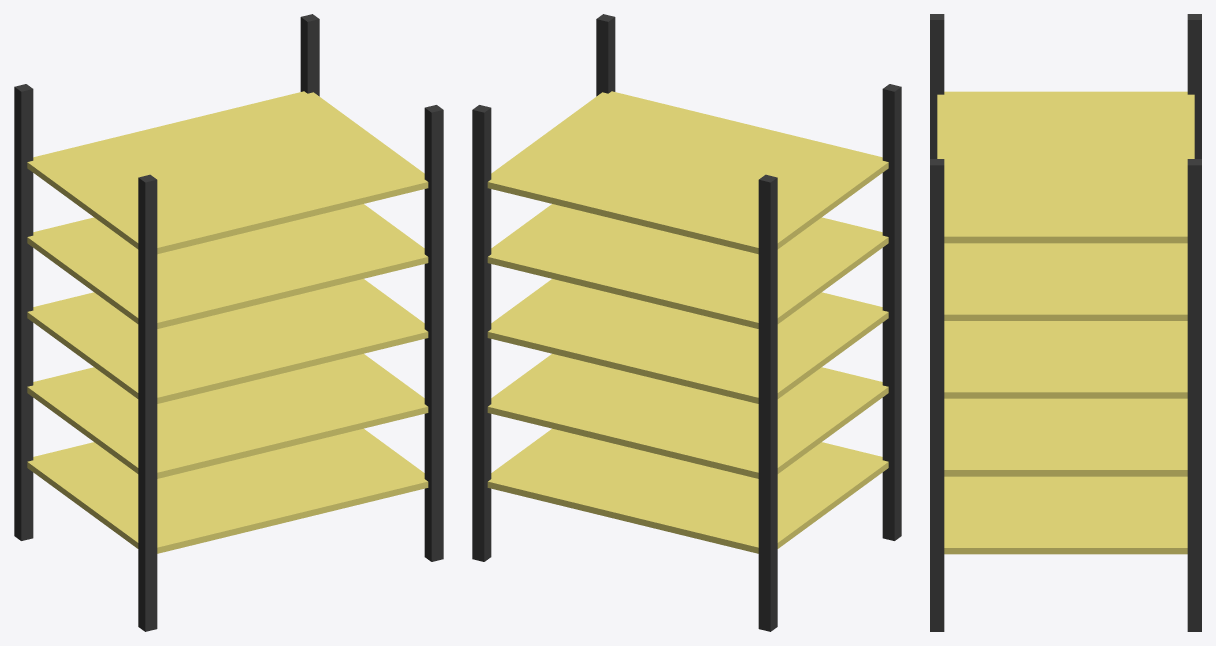
The model's file is display_rack_double.gltf.
3 renders of one model, left to right at view 1: azimuth 30°, elevation 25°; view 2: azimuth 150°, elevation 25°; view 3: azimuth 270°, elevation 25°, orthographic. The views are drawn at different scales.
Visible parts, largest first — view 1: Shelf_48_0, Shelf_60_0, Shelf_12_0, Shelf_24_0, Shelf_36_0, Shelf_60_1, Pillar_0, Pillar_1, Pillar_2, Shelf_48_1, Shelf_24_1, Shelf_36_1 (+2 smaller); view 2: Shelf_48_1, Shelf_60_1, Shelf_12_1, Shelf_24_1, Shelf_36_1, Shelf_60_0, Pillar_2, Pillar_3, Pillar_0, Shelf_48_0, Shelf_24_0, Shelf_36_0 (+2 smaller); view 3: Shelf_60_0, Shelf_60_1, Shelf_12_0, Shelf_12_1, Shelf_24_0, Shelf_24_1, Shelf_36_0, Shelf_36_1, Shelf_48_0, Shelf_48_1, Pillar_1, Pillar_3 (+2 smaller).
Boxes of the visible parts, x1=… form: Shelf_48_0: x1=86, y1=210, x2=428, y2=328; Shelf_60_0: x1=86, y1=135, x2=428, y2=254; Shelf_12_0: x1=86, y1=435, x2=428, y2=553; Shelf_24_0: x1=86, y1=360, x2=428, y2=478; Shelf_36_0: x1=86, y1=285, x2=428, y2=403; Shelf_60_1: x1=27, y1=91, x2=371, y2=210; Pillar_0: x1=138, y1=174, x2=157, y2=631; Pillar_1: x1=424, y1=105, x2=443, y2=561; Pillar_2: x1=14, y1=84, x2=33, y2=540; Shelf_48_1: x1=27, y1=204, x2=371, y2=285; Shelf_24_1: x1=27, y1=353, x2=371, y2=435; Shelf_36_1: x1=27, y1=279, x2=371, y2=360; Shelf_48_1: x1=487, y1=210, x2=829, y2=328; Shelf_60_1: x1=487, y1=135, x2=829, y2=254; Shelf_12_1: x1=487, y1=435, x2=829, y2=553; Shelf_24_1: x1=487, y1=360, x2=829, y2=478; Shelf_36_1: x1=487, y1=285, x2=829, y2=403; Shelf_60_0: x1=544, y1=91, x2=888, y2=210; Pillar_2: x1=758, y1=174, x2=777, y2=631; Pillar_3: x1=472, y1=105, x2=491, y2=561; Pillar_0: x1=882, y1=84, x2=901, y2=540; Shelf_48_0: x1=544, y1=204, x2=888, y2=285; Shelf_24_0: x1=544, y1=353, x2=888, y2=435; Shelf_36_0: x1=544, y1=279, x2=888, y2=360; Shelf_60_0: x1=937, y1=91, x2=1065, y2=243; Shelf_60_1: x1=1066, y1=91, x2=1194, y2=243; Shelf_12_0: x1=944, y1=476, x2=1065, y2=554; Shelf_12_1: x1=1066, y1=476, x2=1187, y2=554; Shelf_24_0: x1=944, y1=398, x2=1065, y2=476; Shelf_24_1: x1=1066, y1=398, x2=1187, y2=476; Shelf_36_0: x1=944, y1=321, x2=1065, y2=398; Shelf_36_1: x1=1066, y1=321, x2=1187, y2=398; Shelf_48_0: x1=944, y1=243, x2=1065, y2=320; Shelf_48_1: x1=1066, y1=243, x2=1187, y2=320; Pillar_1: x1=930, y1=159, x2=944, y2=631; Pillar_3: x1=1187, y1=159, x2=1201, y2=631.
Bounding box in the file's own units: 1.27 × 1.83 × 0.9652.
